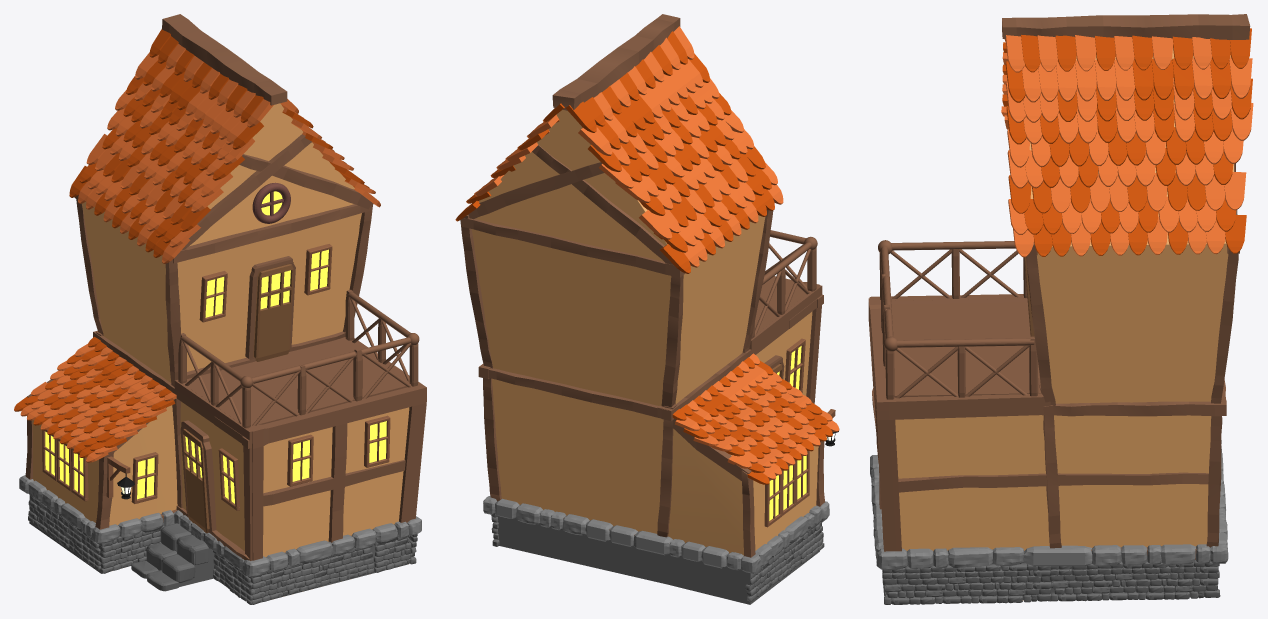
File: house2.glb
The picture shows the model from 3 angles, left to right: view 1: azimuth 30°, elevation 25°; view 2: azimuth 150°, elevation 25°; view 3: azimuth 270°, elevation 25°; orthographic projection. The views are drawn at different scales.
Visible parts, largest first — view 1: House2.001; view 2: House2.001; view 3: House2.001.
Part boxes in pixels (x1,y1,x2,y2): House2.001: (14,14,426,604); House2.001: (455,14,839,604); House2.001: (868,14,1253,604).
Size of the model in its own units: 7.11 by 10.74 by 7.
